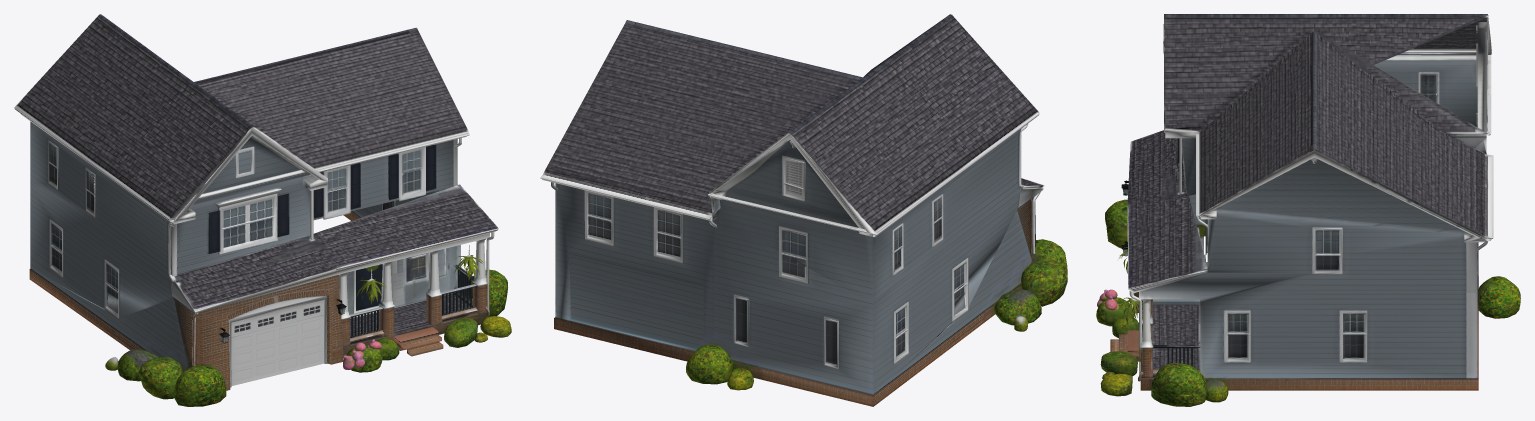
File: House1.fbx
The picture shows the model from 3 angles, left to right: view 1: azimuth 30°, elevation 25°; view 2: azimuth 150°, elevation 25°; view 3: azimuth 270°, elevation 25°; orthographic projection. The views are drawn at different scales.
Visible parts, largest first — view 1: tripo_node_3c10829a; view 2: tripo_node_3c10829a; view 3: tripo_node_3c10829a.
Part boxes in pixels (x1,y1,x2,y2): tripo_node_3c10829a: (14, 14, 511, 406); tripo_node_3c10829a: (540, 14, 1067, 406); tripo_node_3c10829a: (1096, 14, 1520, 406).
Size of the model in its own units: 99.95 by 93.8 by 64.01.
1 material, 1 textured.
